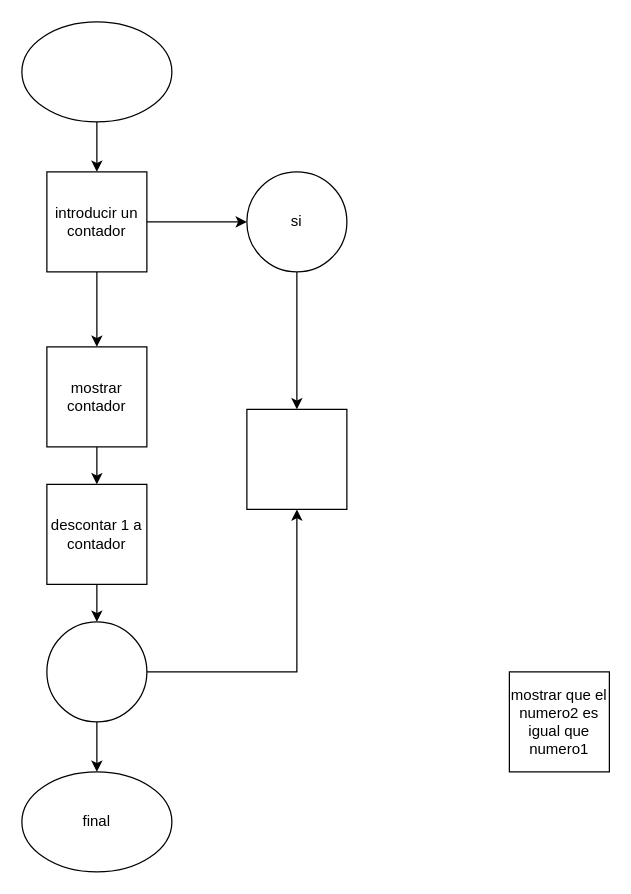
This 631x894 diagram has some shape labels left out. Each missing label, with the centre of its shape:
inicio: the point at 96,71
no: the point at 96,671
valor 1 mayor o igual a contador: the point at 296,458
